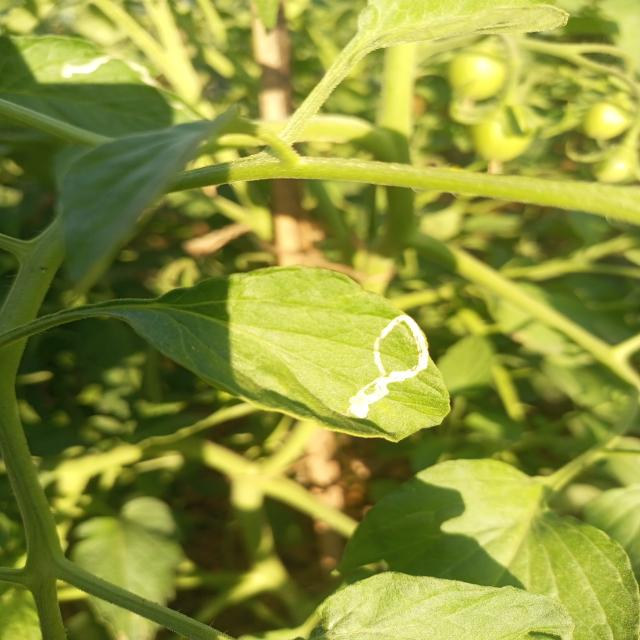Tuta absoluta: (322, 309, 442, 423)
